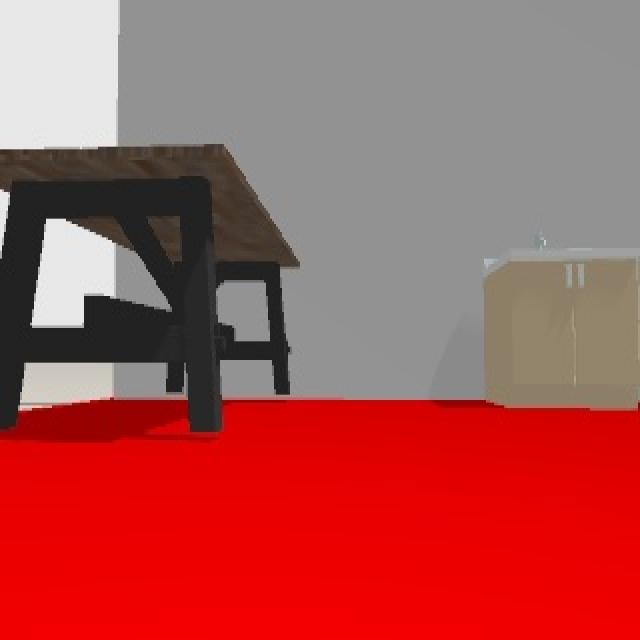dining: (0, 142, 291, 436)
